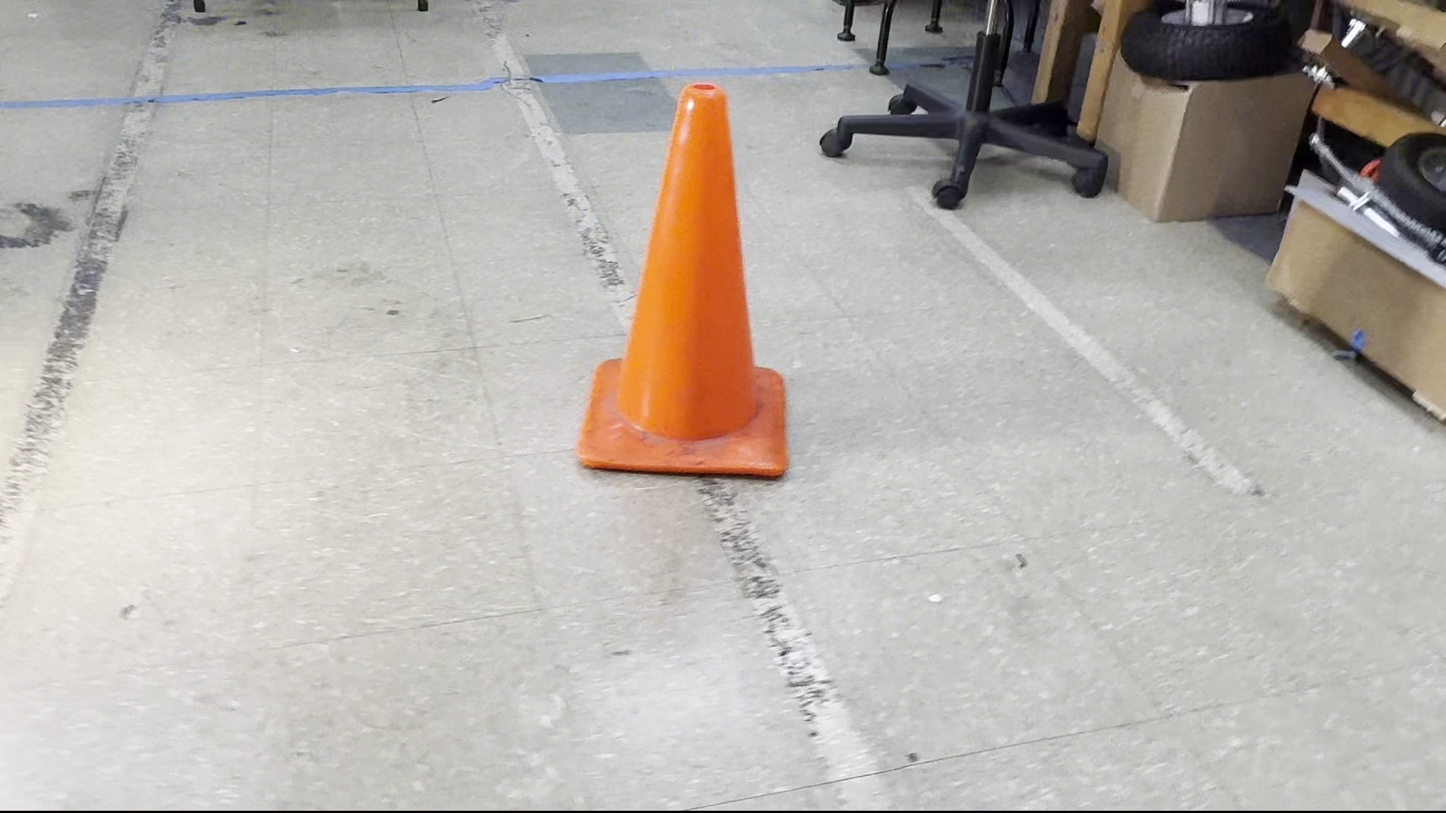traffic_cone: (576, 81, 790, 480)
